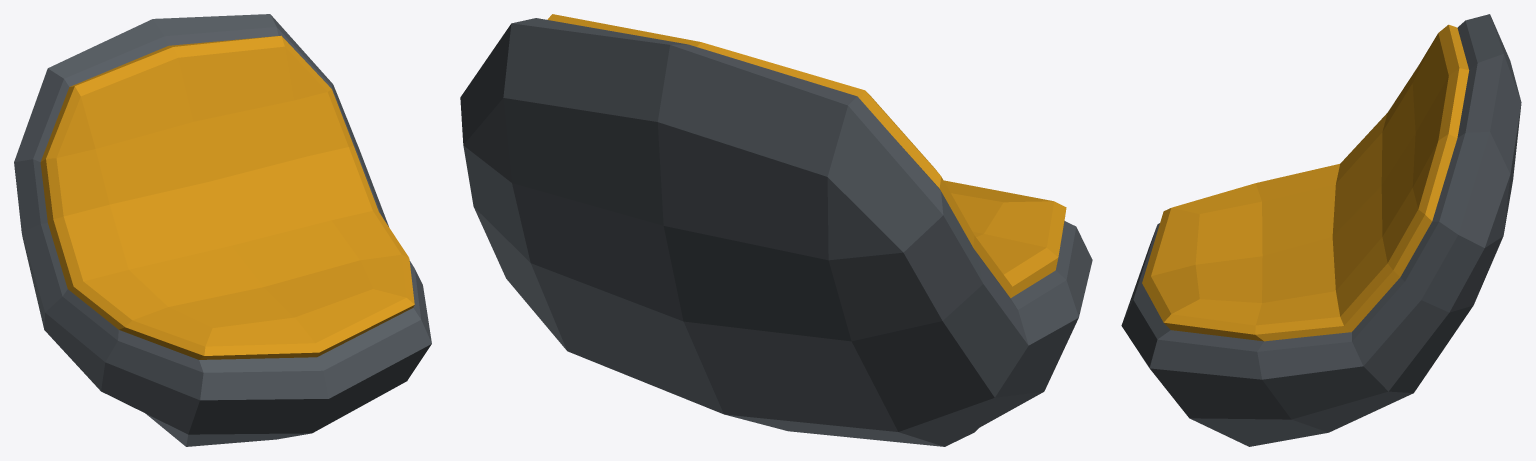
File: Personal_Vehicle_01_Seat_Yellow.fbx
The picture shows the model from 3 angles, left to right: view 1: azimuth 30°, elevation 25°; view 2: azimuth 150°, elevation 25°; view 3: azimuth 270°, elevation 25°; orthographic projection. The views are drawn at different scales.
Parts seen in each view (by area): view 1: Personal_Vehicle_01_Seat_Yellow; view 2: Personal_Vehicle_01_Seat_Yellow; view 3: Personal_Vehicle_01_Seat_Yellow.
Boxes of the visible parts, <box> form: Personal_Vehicle_01_Seat_Yellow: <box>14,14,431,446</box>; Personal_Vehicle_01_Seat_Yellow: <box>460,14,1092,446</box>; Personal_Vehicle_01_Seat_Yellow: <box>1121,14,1521,446</box>.
Size of the model in its own units: 90.56 by 82.85 by 83.99.
Materials: 1 (1 with a texture image).
